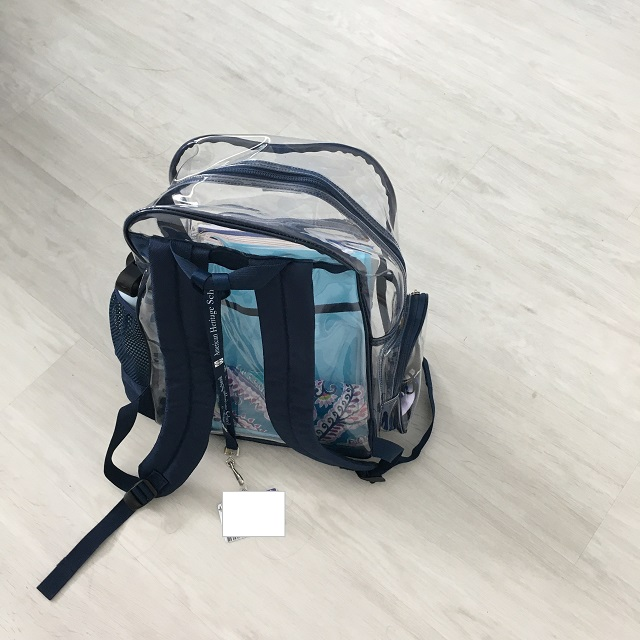clearbackpack: (96, 125, 442, 484)
